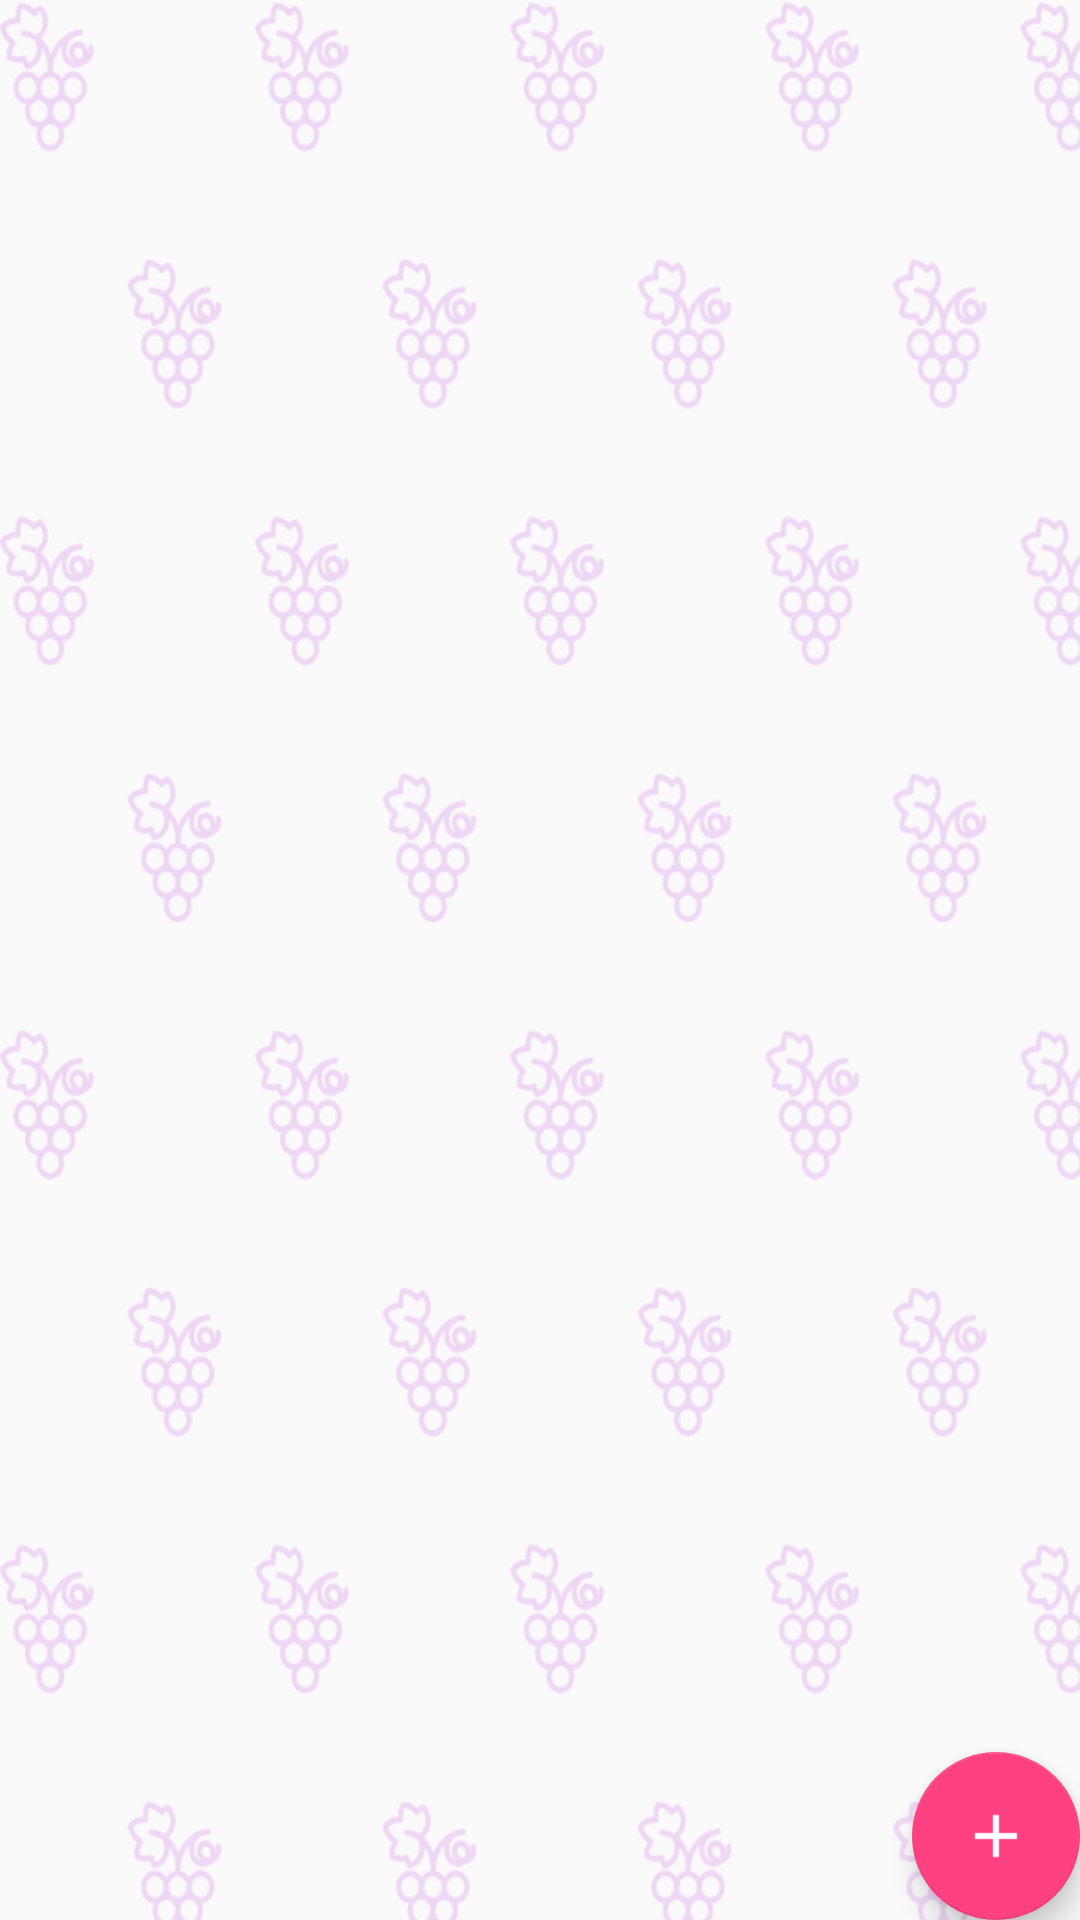

Where icons sit on this 1080×1920 app screen, as box(x1, y1, x2, y2):
plus: box(912, 1752, 1080, 1920)
